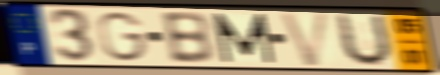3: (49, 6, 95, 65)
B: (158, 9, 217, 65)
G: (94, 10, 150, 63)
M: (210, 11, 278, 65)
U: (336, 11, 394, 69)
V: (277, 11, 334, 68)
